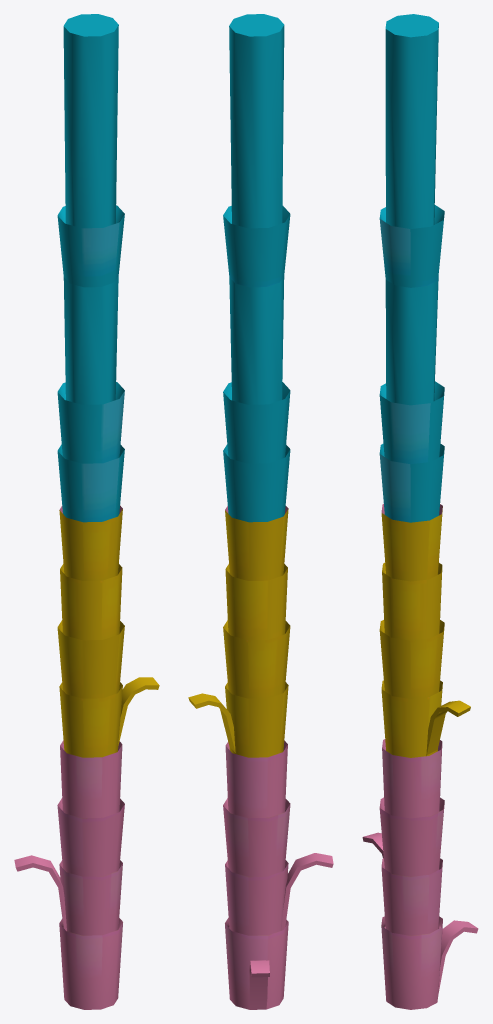
File: ToolPinatastickFirst.glb
3 views of the same model, side by side, from view 1: azimuth 30°, elevation 25°; view 2: azimuth 210°, elevation 25°; view 3: azimuth 330°, elevation 25° (orthographic).
Parts seen in each view (by area): view 1: Body__mTool; view 2: Body__mTool; view 3: Body__mTool.
Boxes of the visible parts, bbox=[...] form: Body__mTool: bbox=[14, 14, 159, 1009]; Body__mTool: bbox=[188, 14, 333, 1009]; Body__mTool: bbox=[362, 14, 478, 1009].
Bounding box in the file's own units: 1.36 × 10.35 × 0.985.
1 material, 1 textured.
